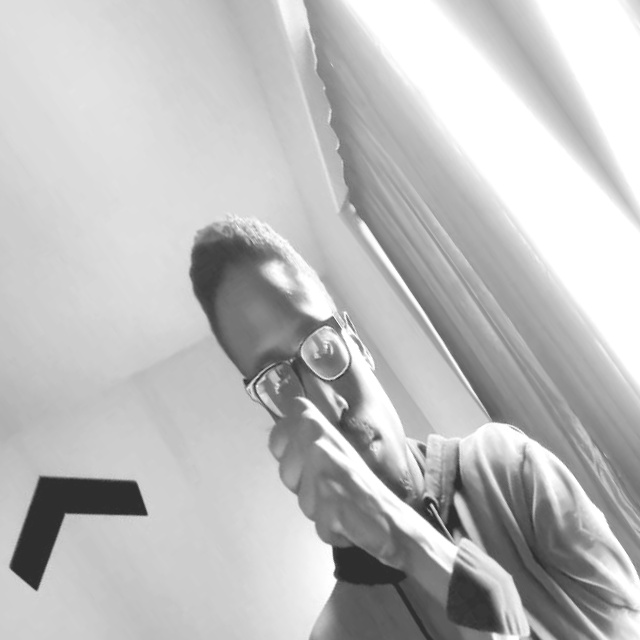Rock: (244, 382, 432, 602)
